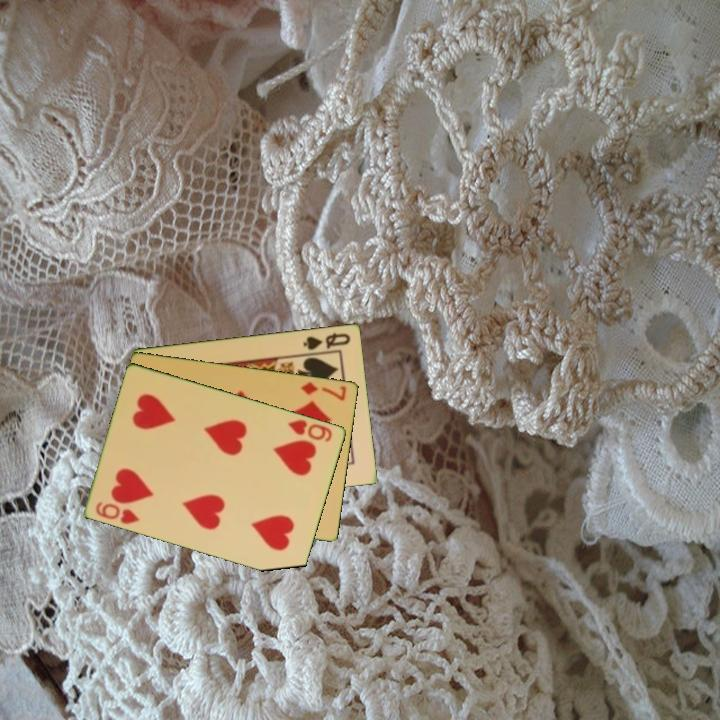6h: (284, 416, 335, 445), (92, 498, 143, 527)
7d: (298, 378, 349, 403)
Qs: (300, 329, 353, 353)
